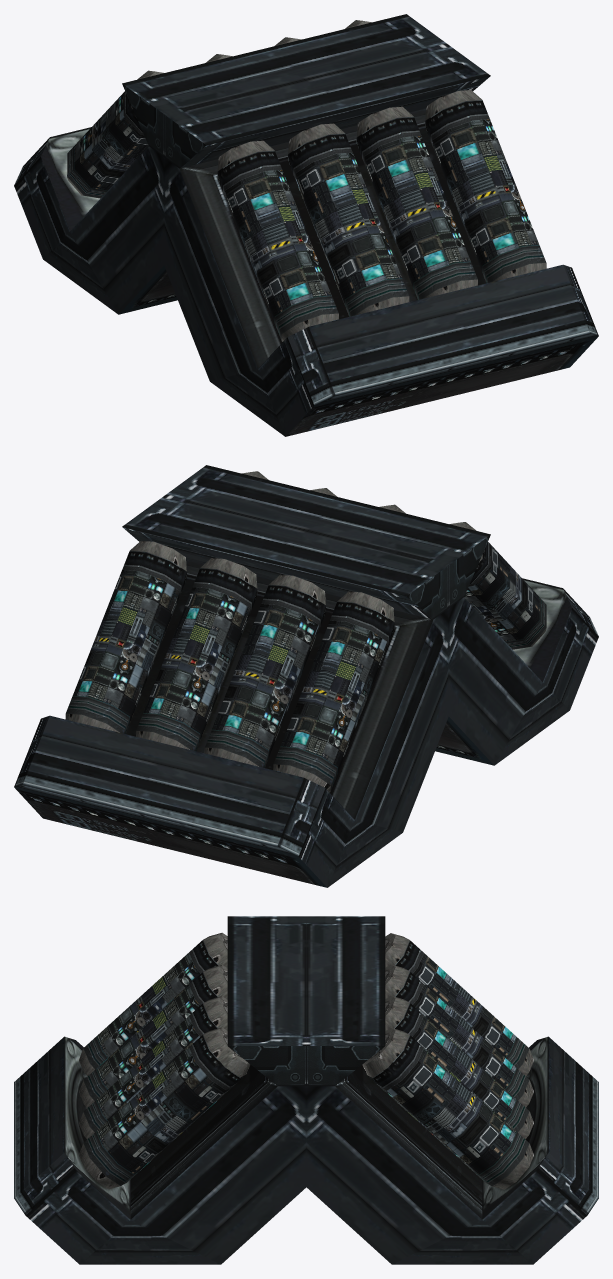
The model's file is Battery_rack02.FBX.
3 views of the same model, one above another, from view 1: azimuth 30°, elevation 25°; view 2: azimuth 150°, elevation 25°; view 3: azimuth 270°, elevation 25° (orthographic). The views are drawn at different scales.
Parts seen in each view (by area): view 1: Battery_rack02, Liquid; view 2: Battery_rack02, Liquid; view 3: Battery_rack02, Liquid.
Boxes of the visible parts, x1,y1,x2,y2 form: Battery_rack02: (14, 14, 598, 436); Liquid: (74, 93, 539, 322); Battery_rack02: (14, 465, 598, 887); Liquid: (73, 544, 539, 772); Battery_rack02: (14, 916, 598, 1264); Liquid: (96, 953, 516, 1174).
Size of the model in its own units: 250 by 196 by 476.
